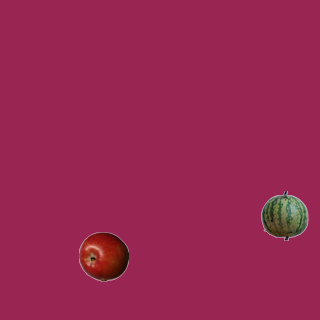Apple Braeburn: (78, 231, 128, 281)
Watermelon: (259, 190, 309, 240)
